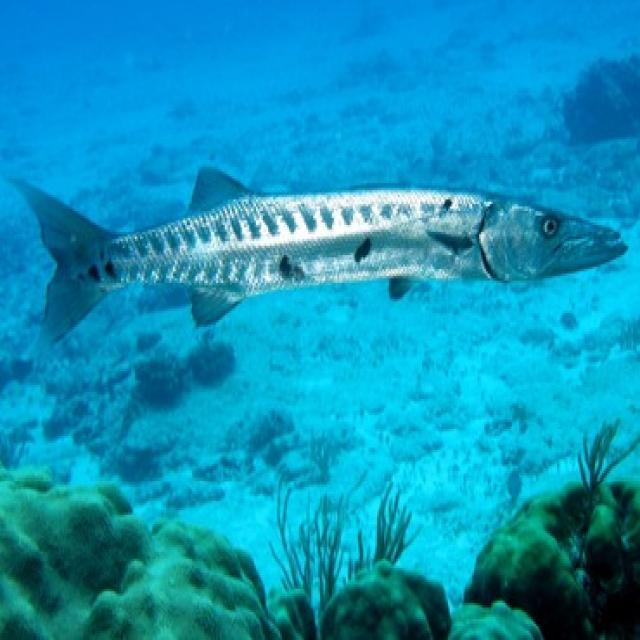Barracuda: (2, 160, 631, 362)
